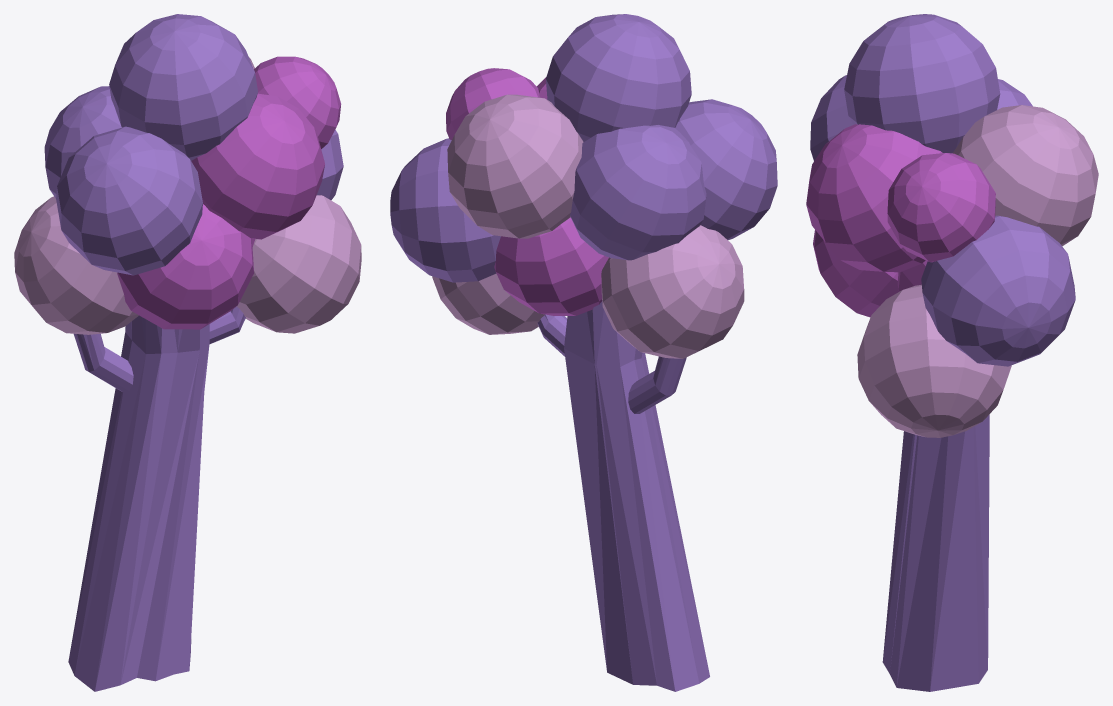
Rendered from round_round_tree.fbx.
3 views of the same model, side by side, from view 1: azimuth 30°, elevation 25°; view 2: azimuth 150°, elevation 25°; view 3: azimuth 270°, elevation 25° (orthographic). The views are drawn at different scales.
Visible parts, largest first — view 1: mesh1904797494; view 2: mesh1904797494; view 3: mesh1904797494.
Part boxes in pixels (<box>): mesh1904797494: <box>14,14,361,691</box>; mesh1904797494: <box>390,14,777,691</box>; mesh1904797494: <box>806,14,1098,691</box>.
Size of the model in its own units: 0.9844 by 1.87 by 0.73.
